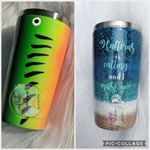cups: (2, 6, 73, 133), (90, 17, 145, 133)
